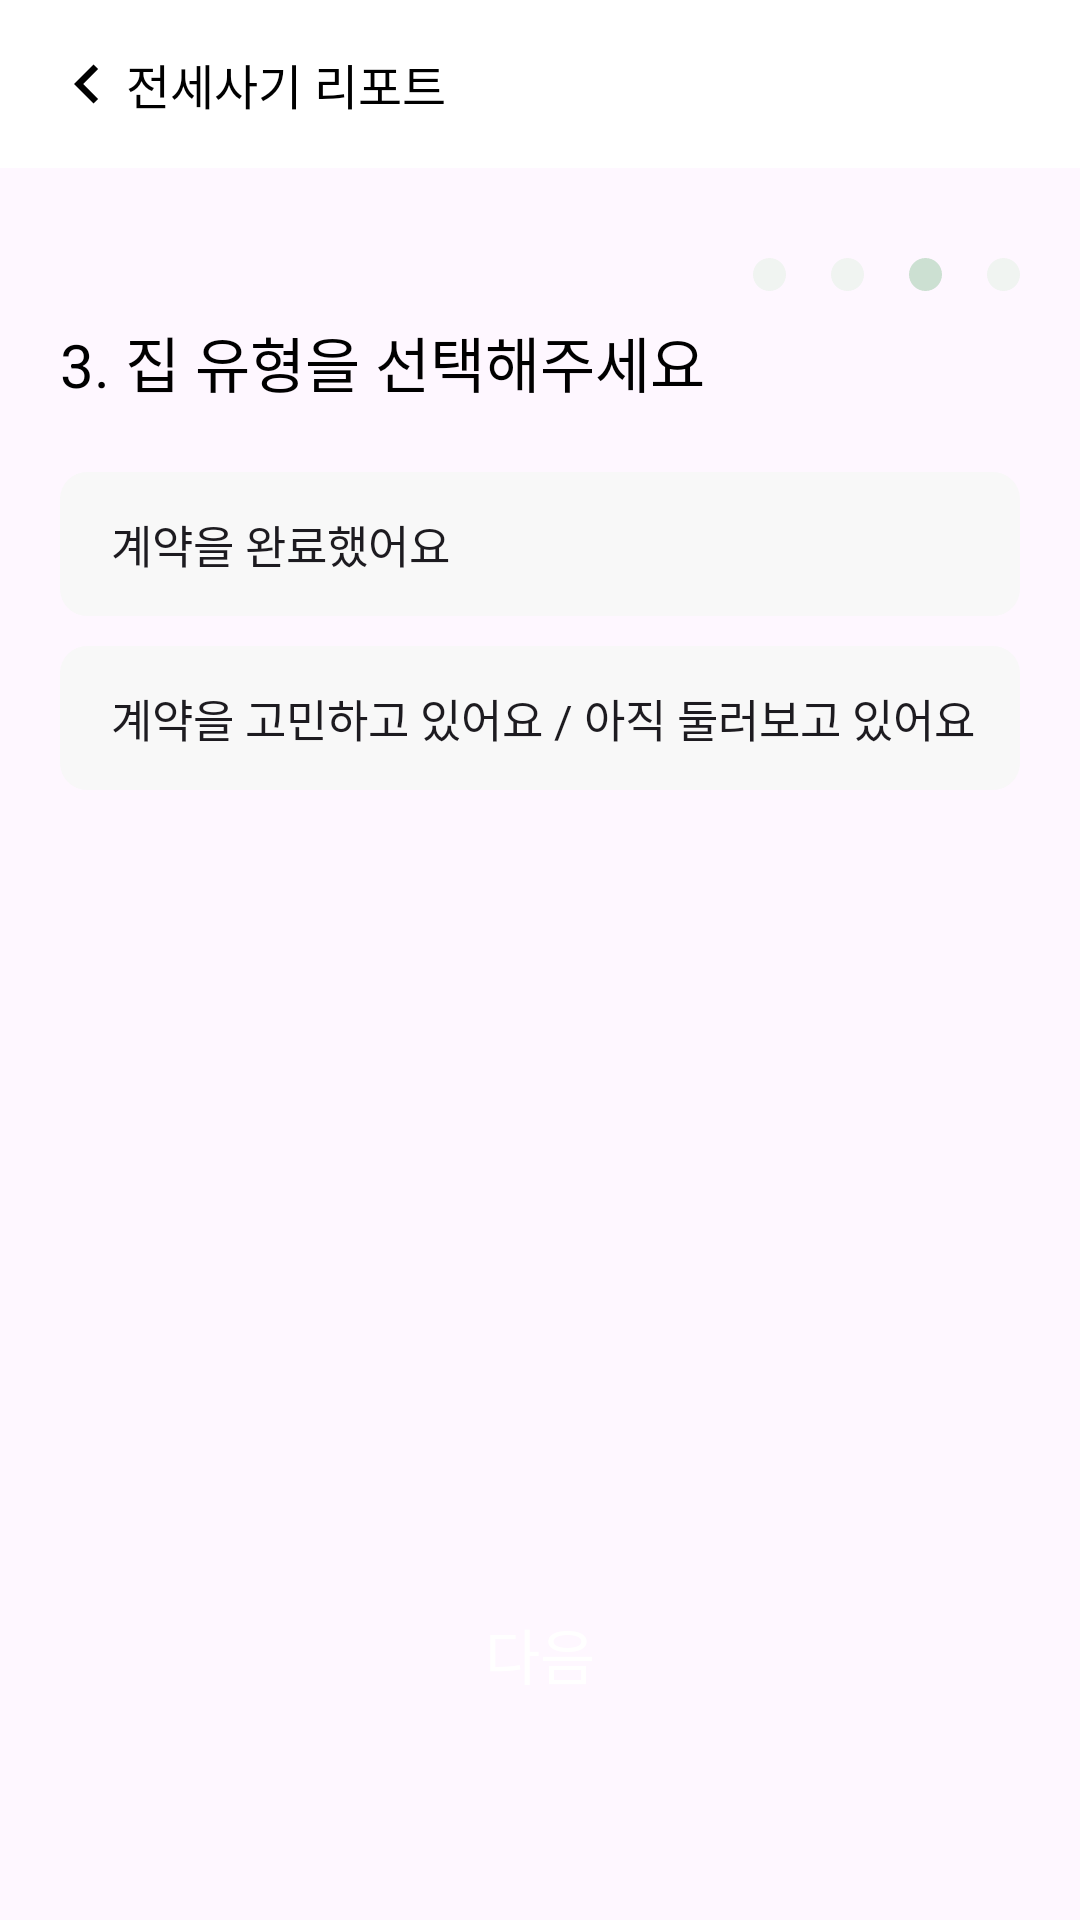

Screen size 1080×1920. Icon name, then its center in pixels as (x=x, y=y):
report back arrow: (x=86, y=84)
